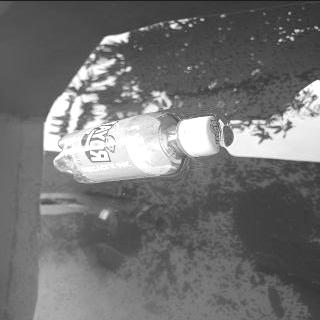bottle: (51, 108, 224, 184)
